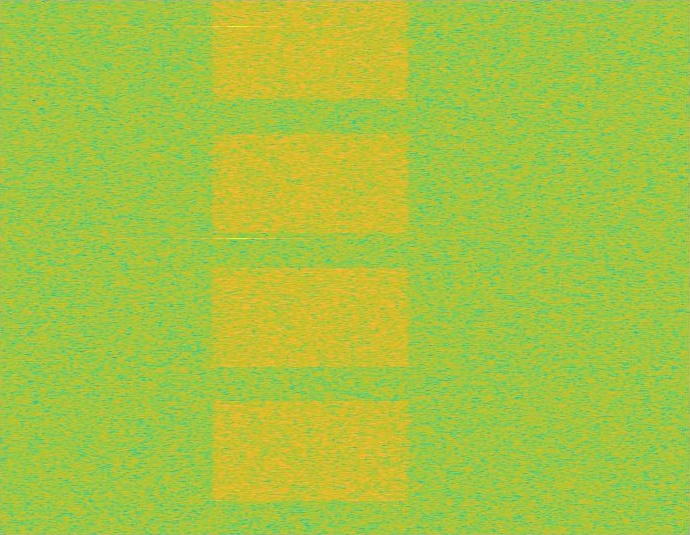5G: (207, 0, 414, 534)
Radar: (232, 0, 245, 534)
